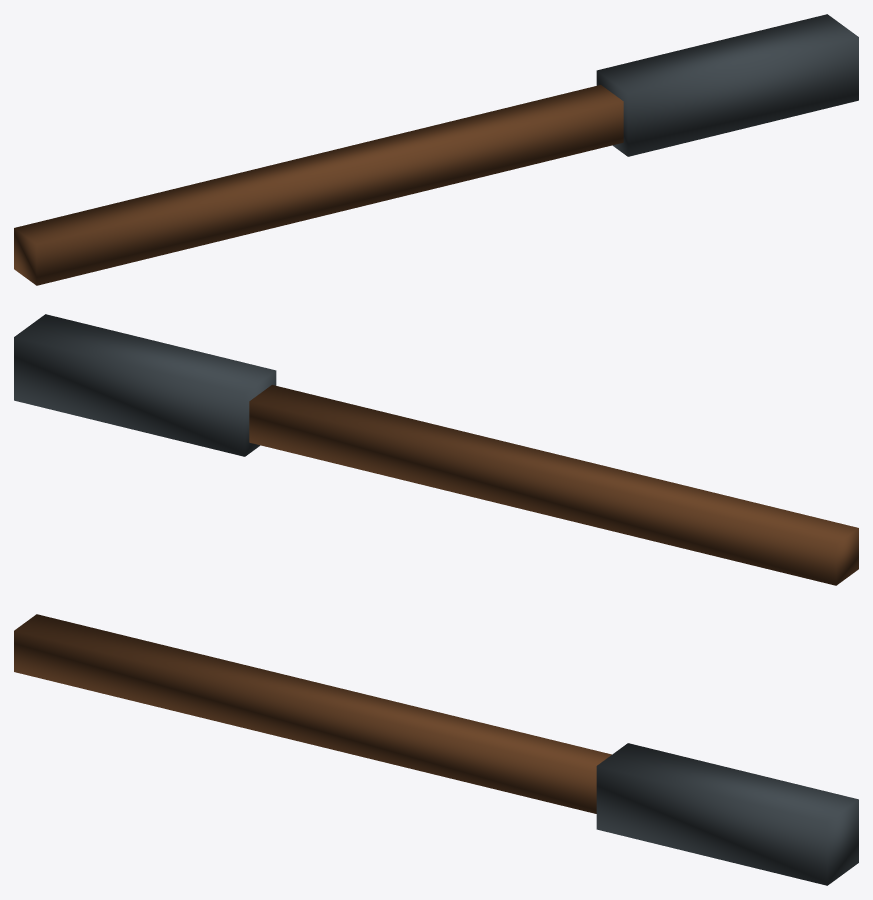
File: early_handgonne_lod2.glb
The picture shows the model from 3 angles, top to bottom: view 1: azimuth 30°, elevation 25°; view 2: azimuth 150°, elevation 25°; view 3: azimuth 330°, elevation 25°; orthographic projection.
Visible parts, largest first — view 1: WeaponMesh.002; view 2: WeaponMesh.002; view 3: WeaponMesh.002.
Boxes of the visible parts, x1,y1,x2,y2 form: WeaponMesh.002: (14,14,858,285); WeaponMesh.002: (14,314,858,585); WeaponMesh.002: (14,614,858,885).
Bounding box in the file's own units: 1.08 × 0.08 × 0.072.
